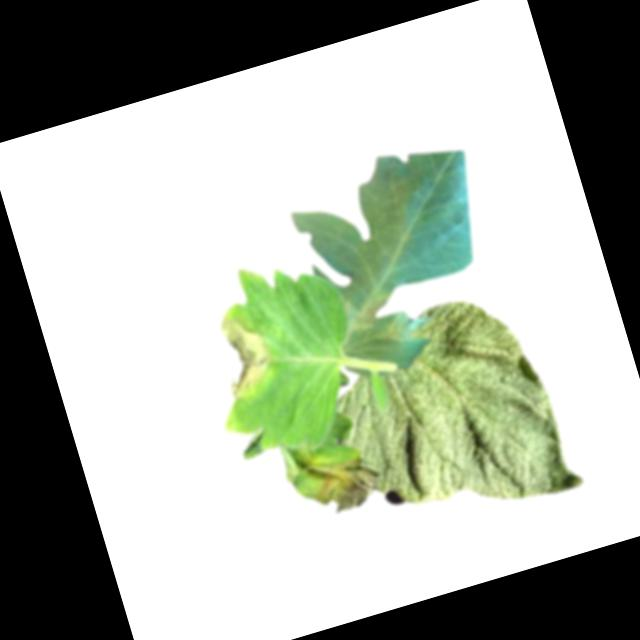Late_blight: (206, 308, 281, 399), (300, 446, 380, 520), (340, 288, 398, 337)
healthy: (311, 279, 584, 548)
